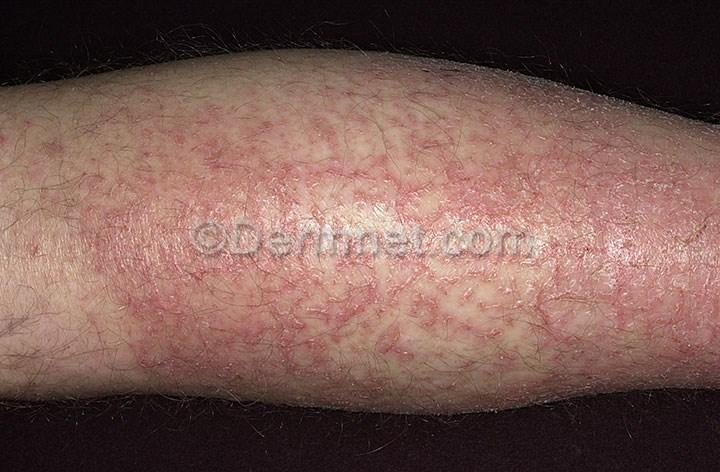Eczema: (103, 256, 659, 381), (21, 118, 367, 210), (414, 104, 633, 223)
